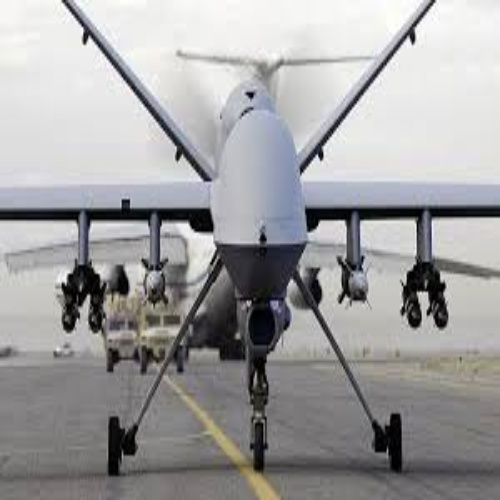uav669: (1, 1, 497, 478)
